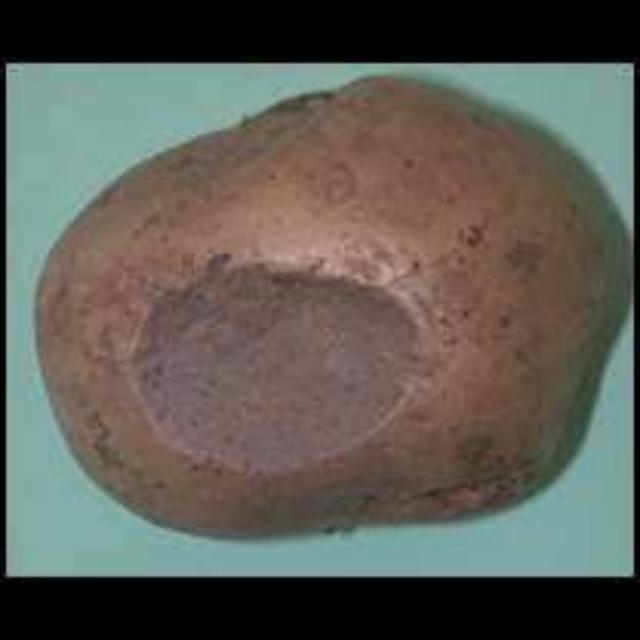Damaged potato: (43, 78, 632, 546)
